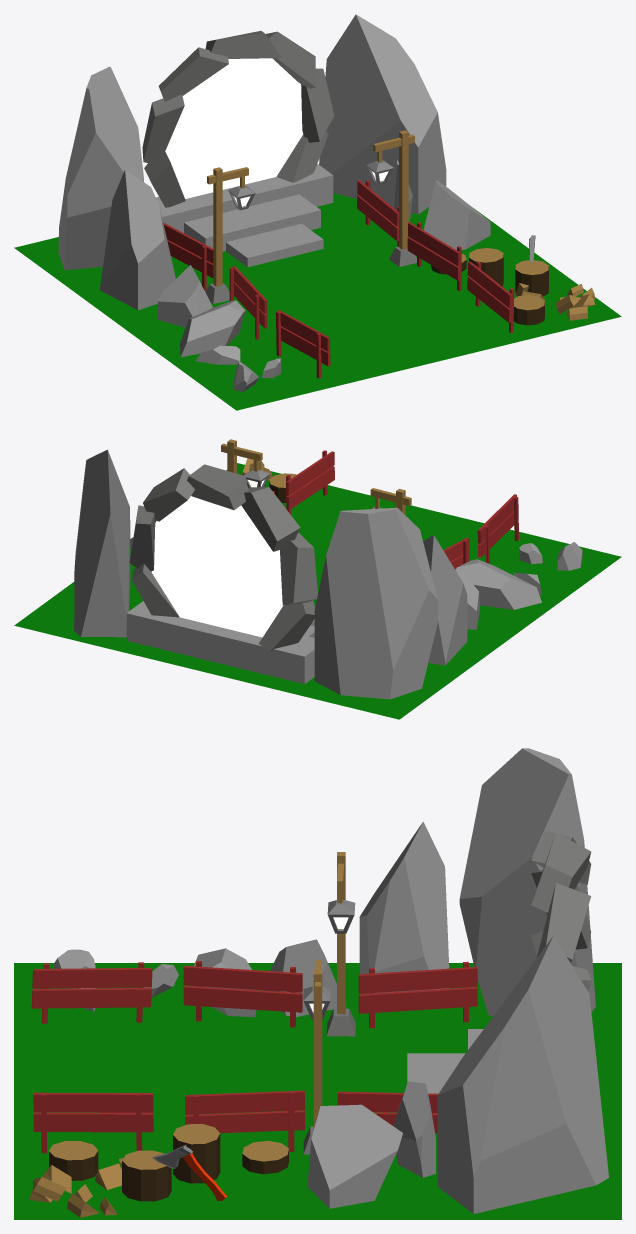
Rendered from Scene_Color_WeilIchEinMädchenBin_SuperNice.glb.
The picture shows the model from 3 angles, top to bottom: view 1: azimuth 30°, elevation 25°; view 2: azimuth 150°, elevation 25°; view 3: azimuth 270°, elevation 25°; orthographic projection. The views are drawn at different scales.
Parts seen in each view (by area): view 1: Ground, Cube.005, Circle, Cube.004, Fence, Cube.013, 2MiddleStair, 1BigStair, Cube.008, 3LittleStair, Cube.007, Cube.006 (+13 smaller); view 2: Ground, Cube.004, Circle, Cube.005, 1BigStair, Fence, Cube.013, Cube.007, Cube.015, Cube.016, Cube.014, Cube.017 (+9 smaller); view 3: Ground, Cube.005, Fence, Cube.004, Cube.013, Cube.008, Cube.012, Cube.014, Cube.003, HackBaum, HackBaum2, Cube.006 (+11 smaller).
Part boxes in pixels (left/top/right/bottom): Ground: left=14, top=193, right=621, bottom=410; Cube.005: left=319, top=14, right=446, bottom=214; Circle: left=165, top=58, right=303, bottom=198; Cube.004: left=58, top=66, right=143, bottom=270; Fence: left=163, top=180, right=514, bottom=378; Cube.013: left=100, top=169, right=175, bottom=310; 2MiddleStair: left=184, top=194, right=320, bottom=251; 1BigStair: left=156, top=164, right=333, bottom=232; Cube.008: left=423, top=180, right=490, bottom=249; 3LittleStair: left=226, top=223, right=323, bottom=267; Cube.007: left=180, top=300, right=245, bottom=356; Cube.006: left=158, top=265, right=212, bottom=327; Ground: left=14, top=463, right=621, bottom=719; Cube.004: left=314, top=507, right=437, bottom=699; Circle: left=151, top=496, right=283, bottom=637; Cube.005: left=74, top=449, right=130, bottom=637; 1BigStair: left=126, top=601, right=314, bottom=683; Fence: left=272, top=450, right=518, bottom=569; Cube.013: left=423, top=535, right=467, bottom=665; Cube.007: left=455, top=559, right=541, bottom=609; Cube.015: left=241, top=487, right=300, bottom=551; Cube.016: left=280, top=532, right=317, bottom=605; Cube.014: left=187, top=464, right=248, bottom=510; Cube.017: left=258, top=600, right=314, bottom=651; Ground: left=14, top=963, right=621, bottom=1219; Cube.005: left=437, top=936, right=608, bottom=1213; Fence: left=31, top=960, right=477, bottom=1153; Cube.004: left=459, top=748, right=595, bottom=1015; Cube.013: left=359, top=821, right=449, bottom=993; Cube.008: left=307, top=1104, right=402, bottom=1208; Cube.012: left=394, top=1080, right=435, bottom=1177; Cube.014: left=531, top=832, right=591, bottom=912; Cube.003: left=537, top=883, right=591, bottom=962; HackBaum: left=122, top=1150, right=171, bottom=1201; HackBaum2: left=173, top=1124, right=220, bottom=1183; Cube.006: left=263, top=939, right=345, bottom=1016.
Bounding box in the file's own units: 4 × 1.81 × 4.
